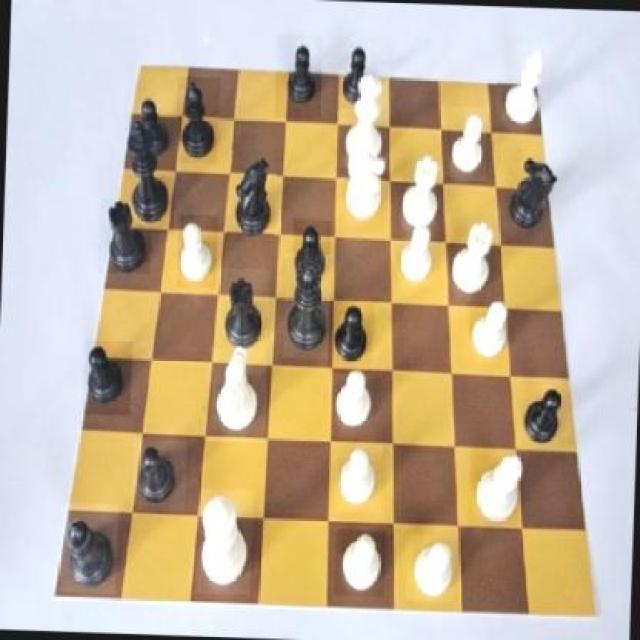bishop: (60, 501, 119, 594), (175, 77, 220, 164)
black-bishop: (121, 111, 177, 233)
black-king: (503, 143, 561, 242), (226, 150, 277, 244)
black-knight: (130, 438, 188, 514), (274, 34, 321, 120), (82, 340, 132, 417), (518, 386, 571, 457), (124, 91, 174, 163), (334, 34, 378, 110), (328, 302, 374, 374), (291, 218, 331, 294)
black-pawn: (283, 252, 332, 360)
black-queen: (217, 268, 271, 350), (97, 198, 152, 274)
black-rook: (468, 446, 524, 531), (496, 44, 550, 130)
white-bishop: (194, 488, 253, 594)
white-king: (208, 346, 268, 442), (337, 141, 388, 234)
white-knight: (334, 529, 386, 597), (323, 364, 372, 434), (406, 534, 456, 601), (334, 444, 381, 514), (468, 294, 510, 368), (177, 214, 218, 287), (397, 218, 438, 288), (451, 106, 488, 180)
white-pawn: (337, 65, 391, 169)
white-queen: (397, 149, 443, 229), (449, 217, 497, 293)
